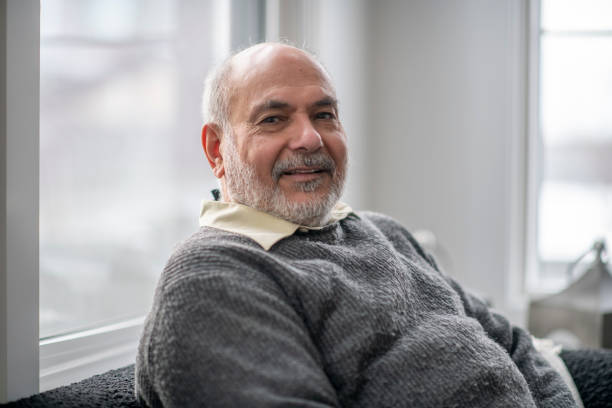person: (199, 40, 350, 225)
